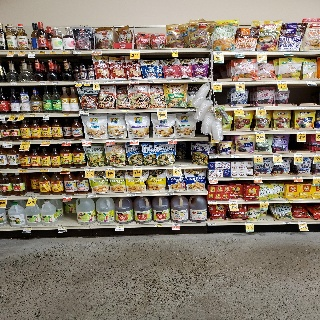All PRICE TAGS: (255, 131, 265, 135), (235, 81, 245, 85), (130, 49, 140, 53), (234, 107, 243, 111), (21, 141, 30, 145), (212, 81, 221, 85), (92, 50, 101, 54), (82, 139, 91, 143), (73, 50, 81, 54), (188, 108, 196, 112), (133, 166, 141, 170), (154, 223, 162, 227), (297, 106, 307, 109), (296, 131, 306, 134), (293, 154, 303, 157), (256, 52, 266, 55), (213, 52, 223, 55), (277, 81, 286, 84), (307, 81, 316, 84), (273, 154, 282, 157), (253, 177, 262, 180), (232, 177, 241, 180), (208, 201, 217, 204), (245, 222, 254, 225), (253, 155, 262, 158), (231, 155, 240, 158), (210, 155, 219, 158), (256, 107, 265, 110), (63, 195, 72, 198), (3, 142, 12, 145), (235, 52, 244, 55), (130, 80, 139, 83), (120, 109, 129, 112), (106, 139, 115, 142), (130, 139, 139, 142), (168, 138, 177, 141), (127, 193, 136, 196), (285, 200, 293, 203), (229, 201, 237, 204), (298, 221, 306, 224), (283, 221, 291, 224), (208, 223, 216, 226), (58, 226, 66, 229), (29, 196, 37, 199), (40, 169, 48, 172), (63, 140, 71, 143), (171, 49, 179, 52), (84, 81, 92, 84), (104, 81, 112, 84), (146, 80, 154, 83), (190, 79, 198, 82), (80, 111, 88, 114), (158, 109, 166, 112), (86, 168, 94, 171), (106, 167, 114, 170), (173, 166, 181, 169), (116, 225, 124, 228), (172, 223, 180, 226), (313, 154, 320, 157), (313, 176, 320, 179), (0, 197, 7, 200), (63, 114, 70, 117), (43, 114, 50, 117), (39, 51, 46, 54), (10, 82, 17, 85), (39, 82, 46, 85), (76, 81, 83, 84), (93, 81, 100, 84), (116, 80, 123, 83), (166, 79, 173, 82), (166, 192, 173, 195), (41, 141, 51, 143), (283, 52, 292, 54), (23, 228, 32, 230), (18, 170, 27, 172), (30, 114, 36, 117), (19, 114, 25, 117), (10, 114, 16, 117), (50, 51, 56, 54), (29, 51, 35, 54), (19, 51, 25, 54), (8, 51, 14, 54), (52, 82, 58, 85), (88, 195, 97, 197), (294, 177, 302, 179), (209, 178, 217, 180), (260, 201, 268, 203), (62, 169, 70, 171), (0, 115, 5, 118), (62, 51, 68, 53), (316, 131, 320, 133)
